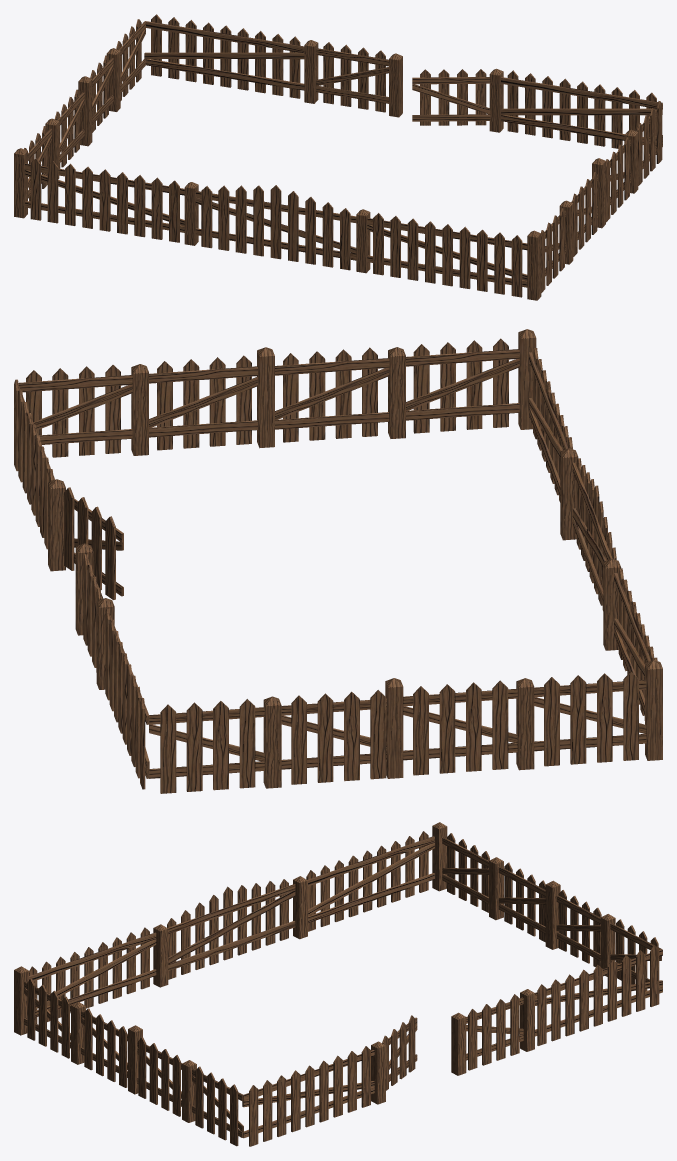
File: FenceStyle1High.004_LOD0.fbx
3 renders of one model, top to bottom at view 1: azimuth 30°, elevation 25°; view 2: azimuth 150°, elevation 25°; view 3: azimuth 270°, elevation 25°, orthographic. The views are drawn at different scales.
Parts seen in each view (by area): view 1: FenceStyle1High_004; view 2: FenceStyle1High_004; view 3: FenceStyle1High_004.
Part boxes in pixels (x1=…): FenceStyle1High_004: x1=14, y1=14, x2=662, y2=300; FenceStyle1High_004: x1=14, y1=329, x2=662, y2=793; FenceStyle1High_004: x1=14, y1=822, x2=662, y2=1146.
Size of the model in its own units: 885 by 113 by 922.
